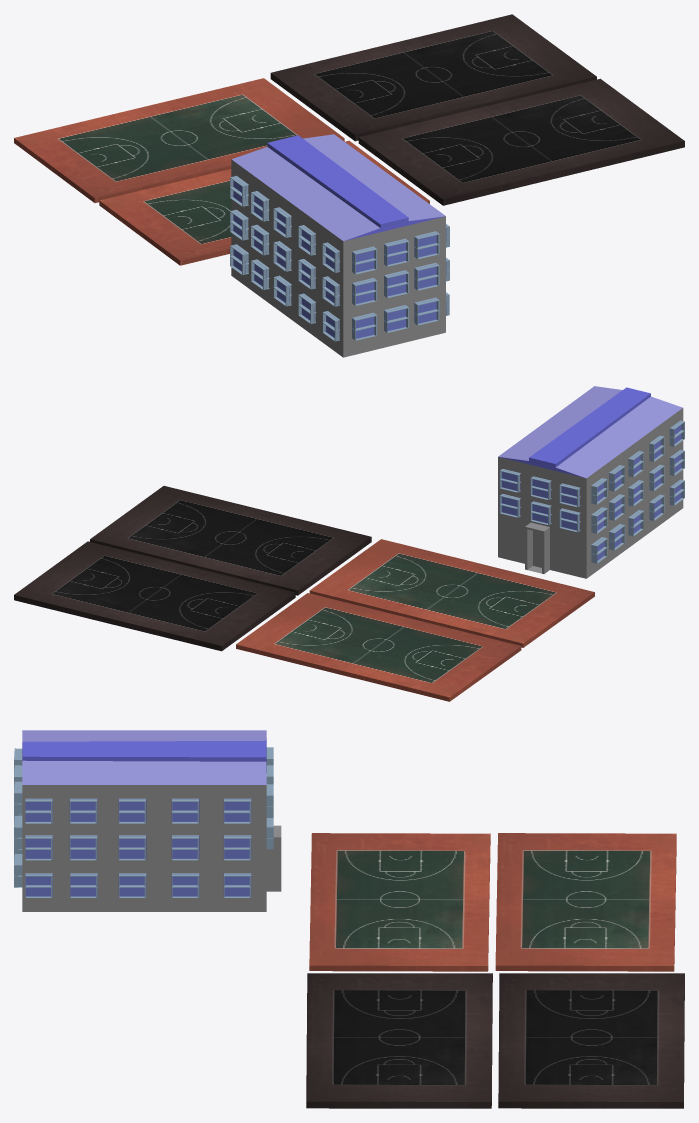
The model's file is basket.glb.
3 renders of one model, top to bottom at view 1: azimuth 30°, elevation 25°; view 2: azimuth 150°, elevation 25°; view 3: azimuth 270°, elevation 25°, orthographic. The views are drawn at different scales.
Parts seen in each view (by area): view 1: Cube, Plane.003, Plane.005, Plane.002, Plane.001, Cube.017, Cube.023, Cube.025, Cube.018, Cube.019, Cube.020, Cube.021 (+2 smaller); view 2: Cube, Plane.005, Plane.002, Plane.003, Plane.001, Cube.001; view 3: Cube, Plane.003, Plane.005, Plane.001, Plane.002, Cube.001, Cube.002, Cube.006, Cube.008, Cube.011, Cube.004, Cube.005 (+9 smaller).
Boxes of the visible parts, bbox=[...] form: Cube: bbox=[231, 134, 445, 357]; Plane.003: bbox=[358, 78, 684, 205]; Plane.005: bbox=[270, 14, 596, 141]; Plane.002: bbox=[14, 78, 344, 202]; Plane.001: bbox=[99, 140, 429, 265]; Cube.017: bbox=[414, 231, 439, 259]; Cube.023: bbox=[414, 297, 439, 325]; Cube.025: bbox=[352, 312, 377, 340]; Cube.018: bbox=[384, 238, 409, 266]; Cube.019: bbox=[352, 246, 377, 274]; Cube.020: bbox=[414, 262, 439, 290]; Cube.021: bbox=[384, 270, 409, 298]; Cube: bbox=[498, 386, 683, 578]; Plane.005: bbox=[14, 541, 295, 651]; Plane.002: bbox=[236, 593, 521, 701]; Plane.003: bbox=[90, 486, 371, 595]; Plane.001: bbox=[309, 539, 594, 647]; Cube.001: bbox=[525, 522, 549, 573]; Cube: bbox=[22, 730, 266, 911]; Plane.003: bbox=[306, 973, 492, 1108]; Plane.005: bbox=[498, 973, 684, 1108]; Plane.001: bbox=[309, 833, 490, 971]; Plane.002: bbox=[495, 833, 676, 971]; Cube.001: bbox=[266, 825, 281, 891]; Cube.002: bbox=[69, 798, 97, 823]; Cube.006: bbox=[223, 798, 251, 823]; Cube.008: bbox=[69, 835, 97, 860]; Cube.011: bbox=[223, 835, 251, 860]; Cube.004: bbox=[118, 798, 146, 823]; Cube.005: bbox=[171, 798, 199, 823].
Size of the model in its own units: 45.25 by 10.69 by 47.94.
Materials: 8 (2 with a texture image).
